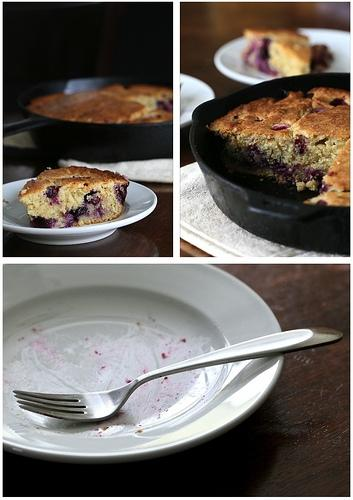blueberry: (258, 38, 271, 60), (68, 206, 88, 220), (84, 191, 101, 205), (32, 216, 50, 228), (46, 186, 63, 198), (258, 156, 274, 168), (294, 138, 306, 154), (274, 89, 290, 101), (329, 98, 347, 107), (302, 167, 314, 180), (158, 101, 172, 112), (248, 147, 260, 157), (270, 124, 290, 130), (324, 52, 334, 62), (313, 170, 322, 180), (118, 189, 125, 201), (274, 160, 284, 168), (302, 93, 314, 99)
